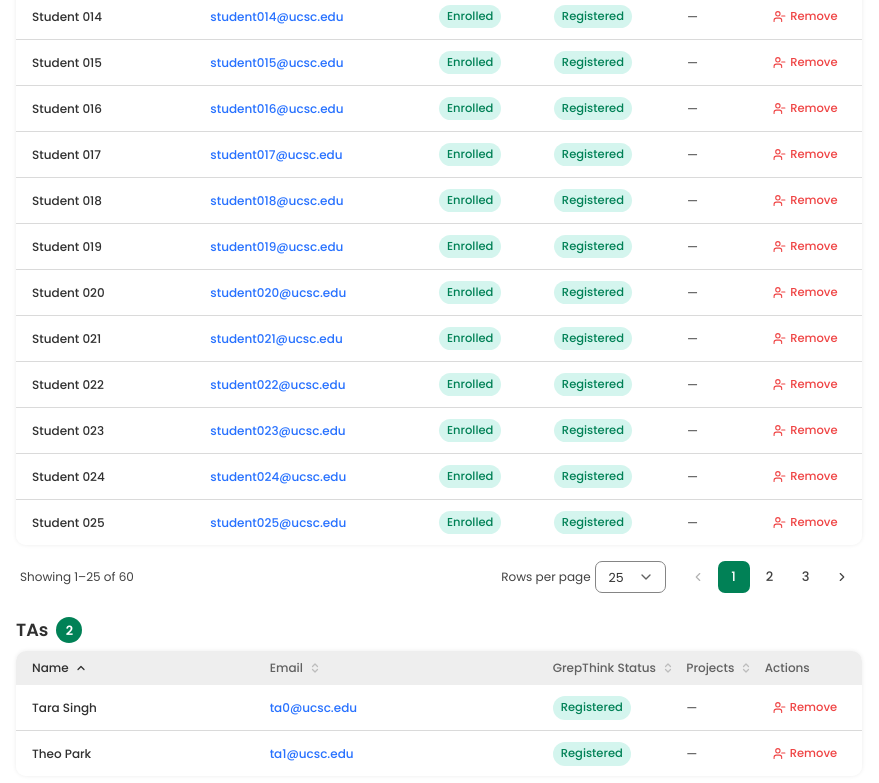
Test case: Roster — paging the student list › goes back to page 1 when the page size changes
(page scrolled)
Click the button named "Page 2" at [770, 577], box [754,561,786,593]
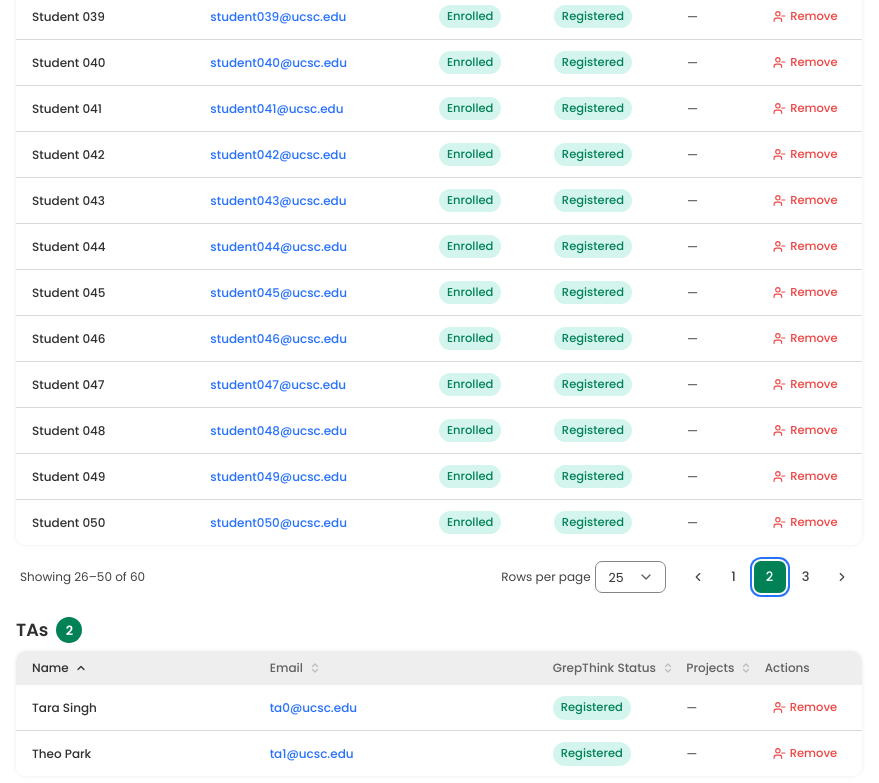
Select "10" in the dropdown named "Rows per page" at [630, 577], box [595,561,666,593]
(page scrolled)
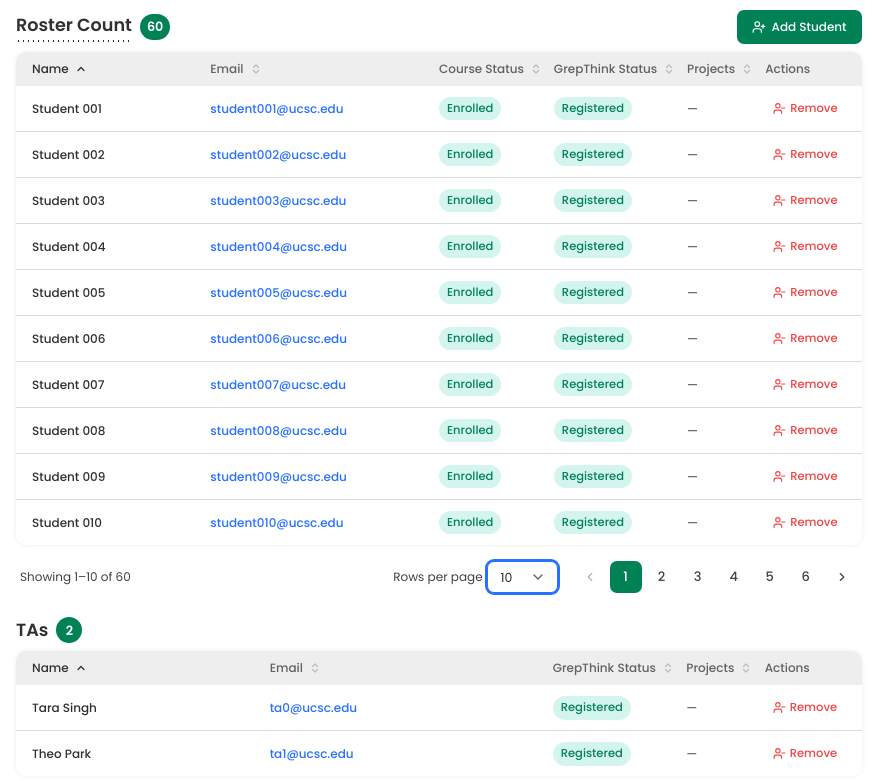
expect the text "Showing 1–10 of 60" is shown: met, box [20,568,131,586]
